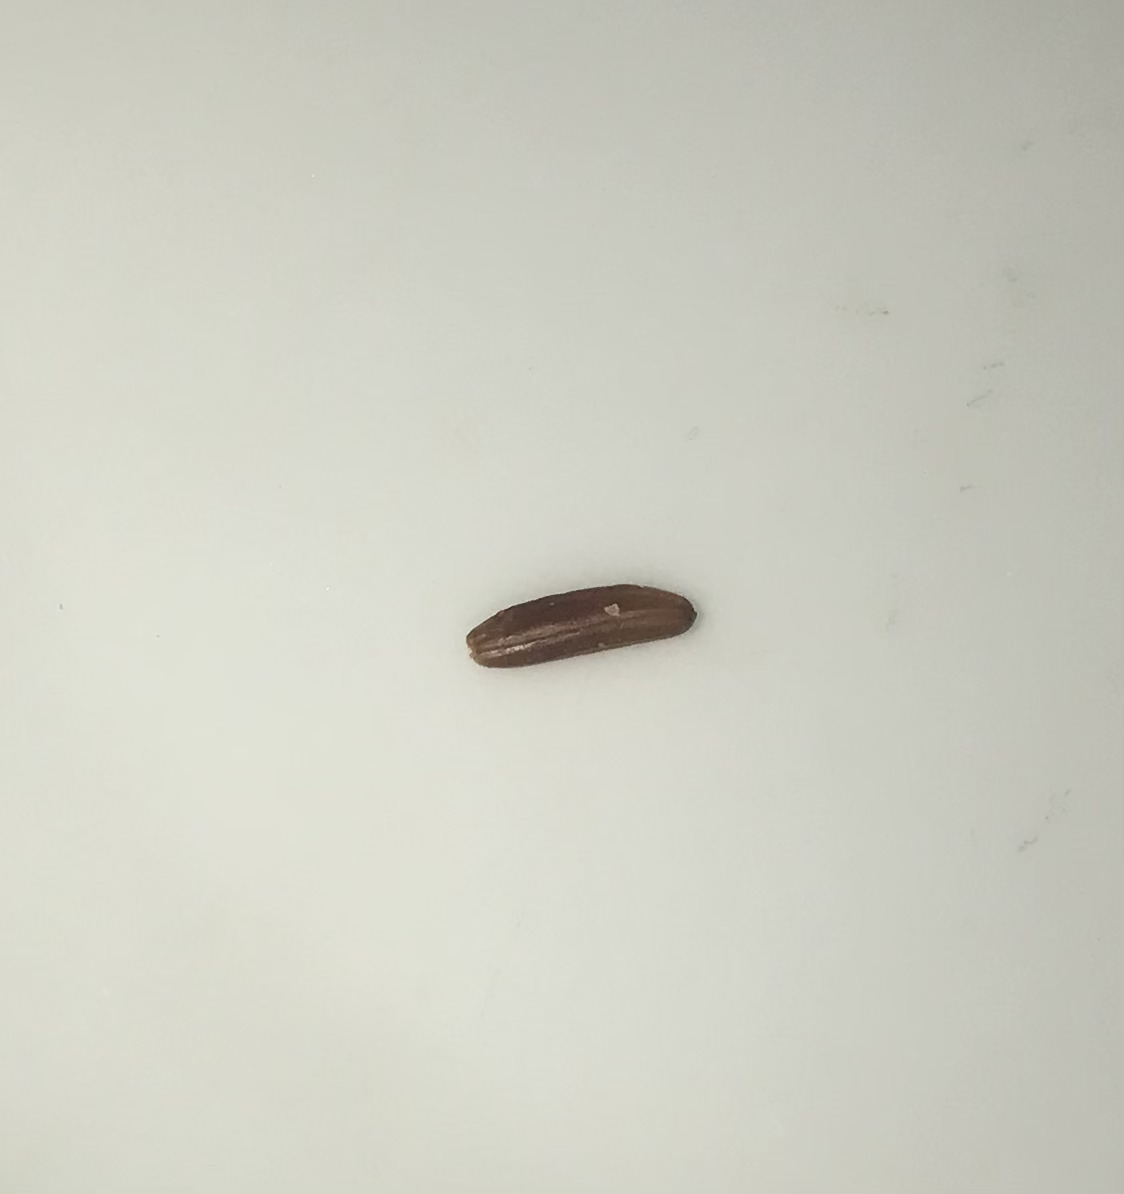Gao Huyet Rong: (461, 580, 711, 673)
